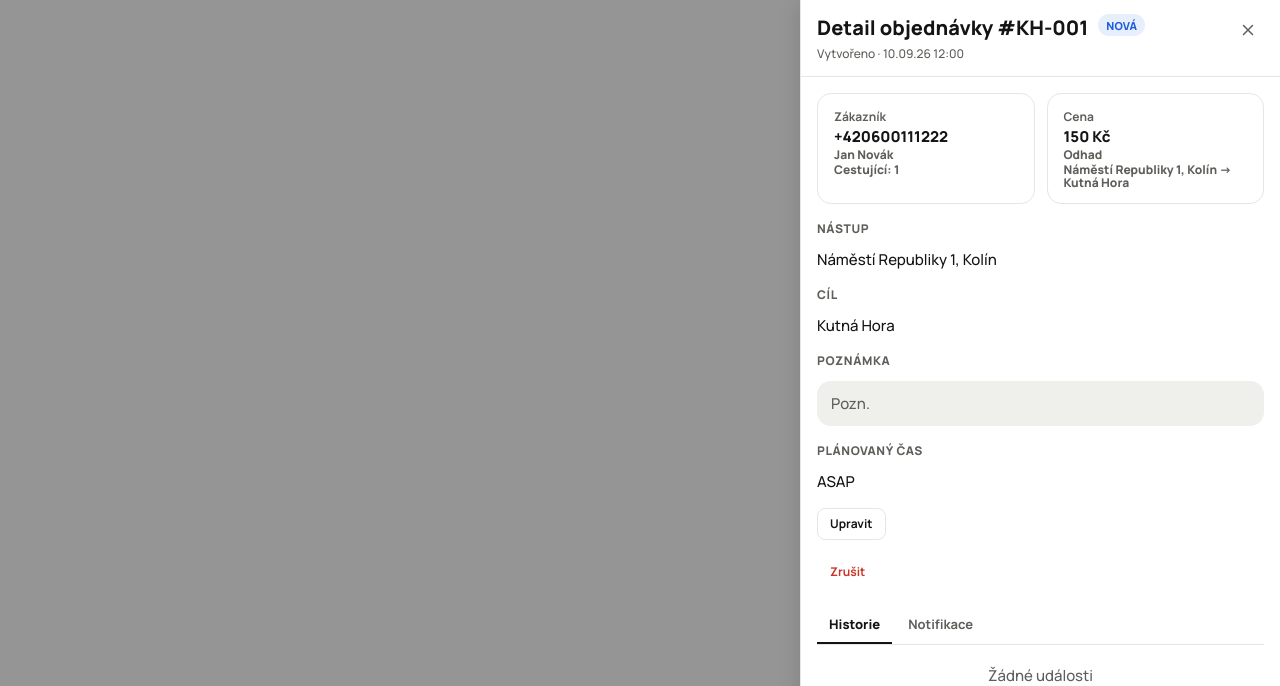
Test: OrderDrawer — cancel form inline › shows inline cancel form when cancel button clicked (no window.prompt)
Expected: the heading "Detail objednávky #KH-001" is shown, [817, 14, 1088, 41]
Note: Find cancel button and click it
Click the button "Zrušit". click: [848, 572]
box: [817, 556, 878, 588]
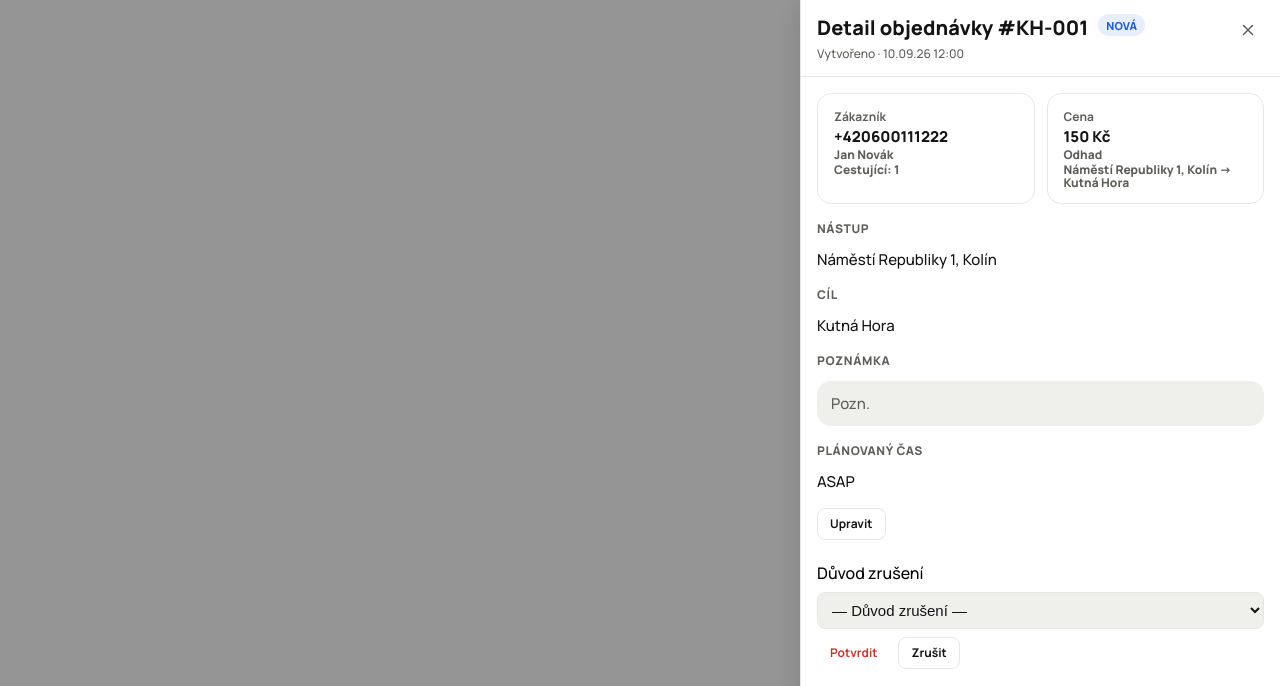
Expected: the dropdown is shown, [817, 592, 1264, 629]
